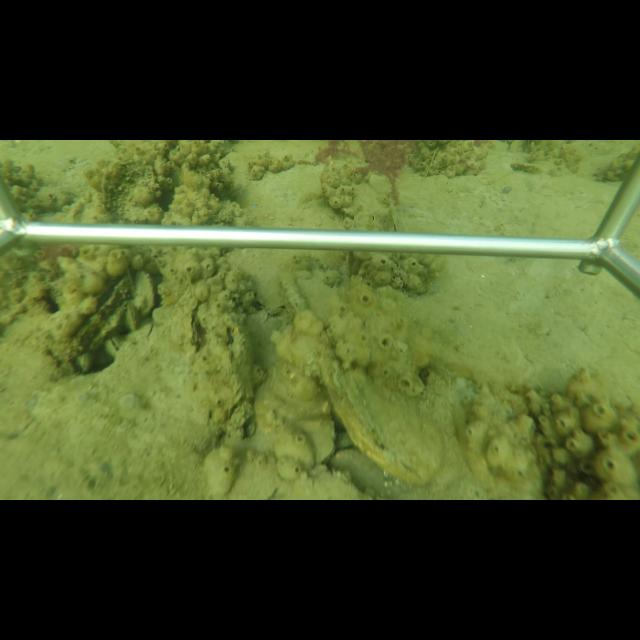Oyster-Closed: (279, 254, 454, 487), (276, 416, 342, 467), (169, 293, 205, 366), (133, 269, 157, 317), (123, 302, 139, 334)
